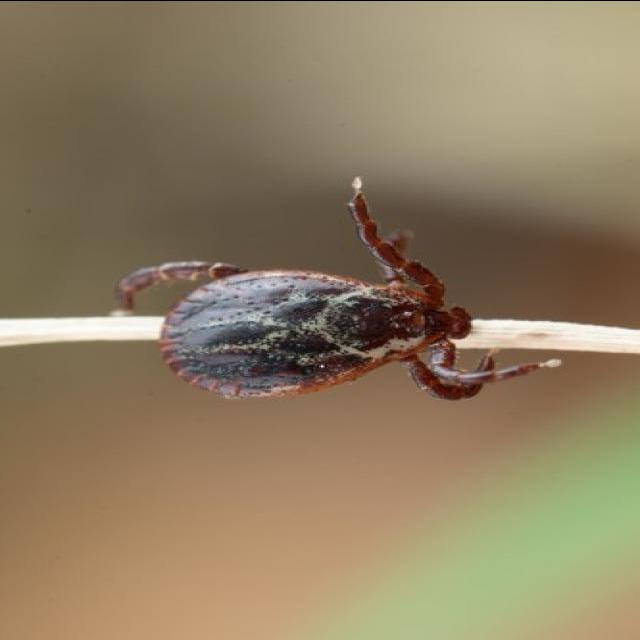Dermacentor Reticulatus-M: (117, 175, 565, 401)
